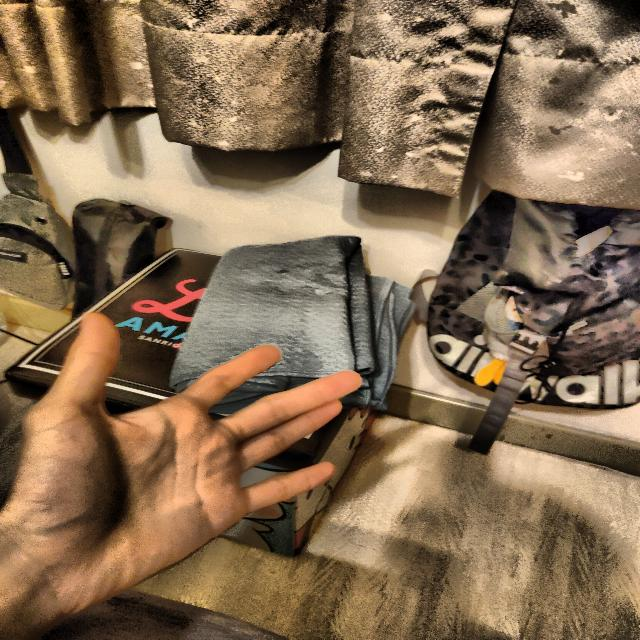not-gloved: (10, 294, 364, 628)
